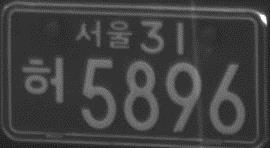1: (172, 19, 190, 58)
3: (139, 18, 165, 55)
5: (79, 56, 117, 129)
6: (209, 62, 246, 136)
8: (123, 60, 161, 131)
9: (165, 61, 203, 136)
서울_O: (76, 19, 132, 52)
허: (21, 56, 66, 103)
